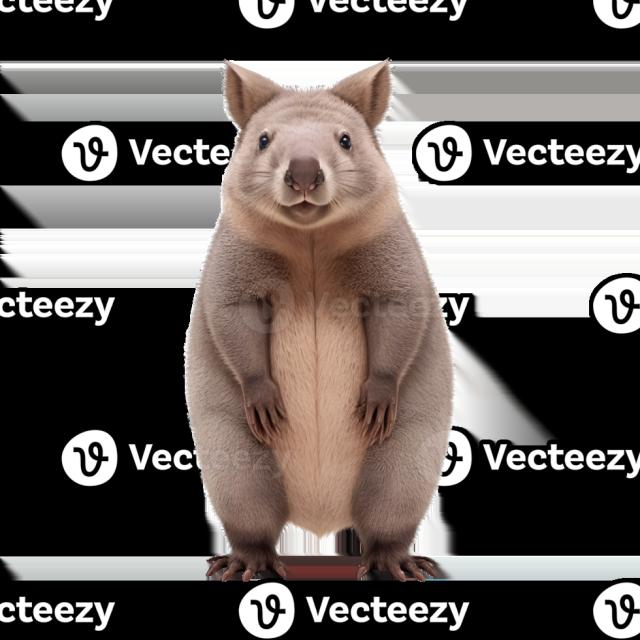Wombat: (176, 41, 464, 592)
